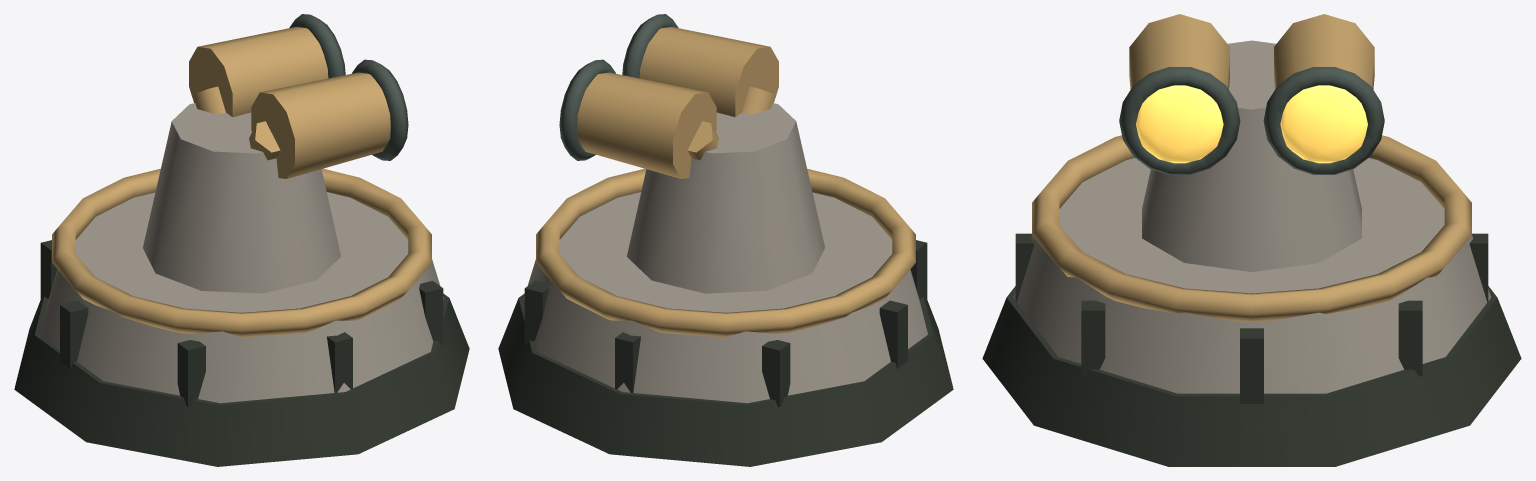
The model's file is tower_laser_laserSplitter.glb.
3 renders of one model, left to right at view 1: azimuth 30°, elevation 25°; view 2: azimuth 150°, elevation 25°; view 3: azimuth 270°, elevation 25°, orthographic. The views are drawn at different scales.
Parts seen in each view (by area): view 1: stone_1, foot_0, column_11, rim_2, lens_housing_13, lens_housing_17, focus_ring_14, mortar_6, mortar_7, focus_ring_18, mortar_5, mortar_4 (+3 smaller); view 2: stone_1, foot_0, column_11, rim_2, lens_housing_17, lens_housing_13, focus_ring_18, mortar_8, mortar_7, focus_ring_14, mortar_9, mortar_10 (+3 smaller); view 3: stone_1, foot_0, column_11, rim_2, lens_glass_15, lens_glass_19, focus_ring_14, focus_ring_18, lens_housing_13, lens_housing_17, mortar_3, mortar_4 (+3 smaller).
Part boxes in pixels (<box>): stone_1: <box>40,192,443,403</box>; foot_0: <box>14,293,469,466</box>; column_11: <box>143,103,340,293</box>; rim_2: <box>52,168,431,337</box>; lens_housing_13: <box>251,72,390,178</box>; lens_housing_17: <box>189,27,328,117</box>; focus_ring_14: <box>352,59,408,160</box>; mortar_6: <box>177,340,205,406</box>; mortar_7: <box>60,300,88,368</box>; focus_ring_18: <box>289,14,345,78</box>; mortar_5: <box>327,332,352,393</box>; mortar_4: <box>419,281,443,345</box>; stone_1: <box>524,192,927,403</box>; foot_0: <box>498,293,953,466</box>; column_11: <box>627,103,824,293</box>; rim_2: <box>536,168,915,337</box>; lens_housing_17: <box>577,72,716,178</box>; lens_housing_13: <box>639,27,778,117</box>; focus_ring_18: <box>559,59,615,160</box>; mortar_8: <box>762,340,790,406</box>; mortar_7: <box>879,300,907,368</box>; focus_ring_14: <box>622,14,678,78</box>; mortar_9: <box>615,332,640,393</box>; mortar_10: <box>524,281,548,345</box>; stone_1: <box>1012,158,1491,393</box>; foot_0: <box>982,286,1521,466</box>; column_11: <box>1142,40,1361,271</box>; rim_2: <box>1032,135,1471,322</box>; lens_glass_15: <box>1136,85,1223,163</box>; lens_glass_19: <box>1280,85,1367,163</box>; focus_ring_14: <box>1119,67,1240,174</box>; focus_ring_18: <box>1263,67,1384,174</box>; lens_housing_13: <box>1129,14,1229,89</box>; lens_housing_17: <box>1274,14,1374,89</box>; mortar_3: <box>1240,328,1263,403</box>; mortar_4: <box>1081,300,1105,376</box>.
Size of the model in its own units: 0.5326 by 0.402 by 0.56.
